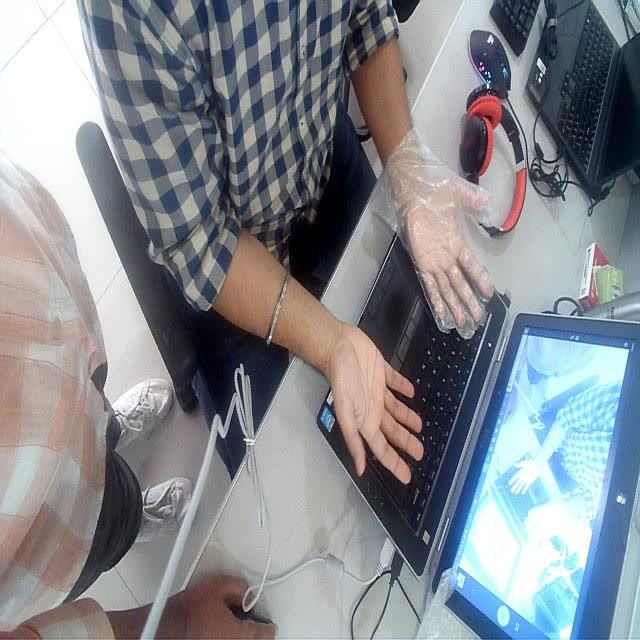with_gloves: (386, 150, 523, 360)
without_gloves: (302, 294, 424, 498)
